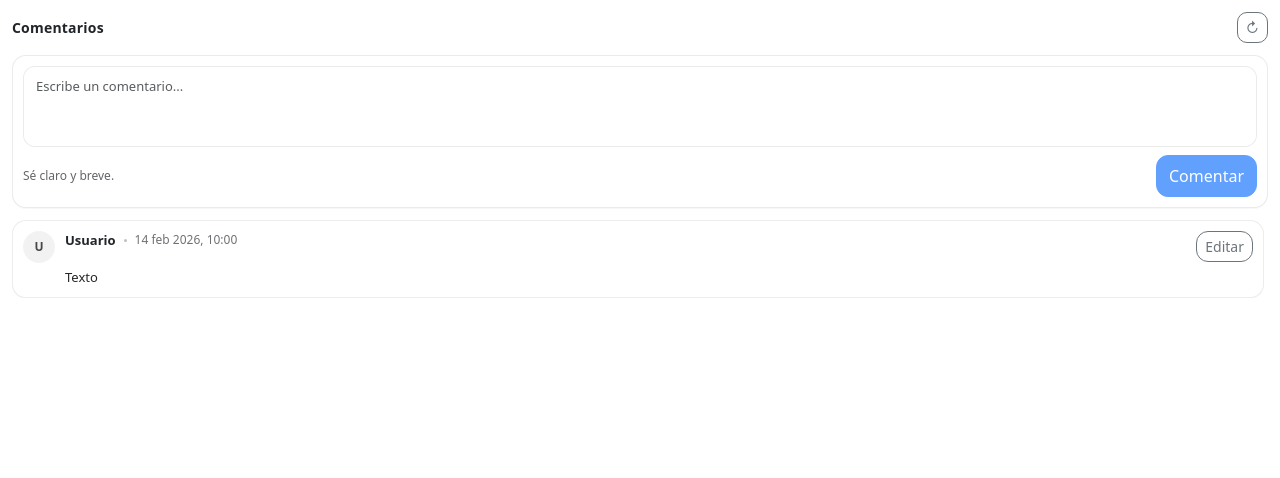
Test: DocumentCommentsPanel › shows error when update fails and stays in edit mode (branch)
Expected: the text "Texto" is shown, top-left (65, 268), bottom-right (98, 286)
Click the button "Editar" at (1225, 246), box top-left (1196, 230), bottom-right (1253, 262)
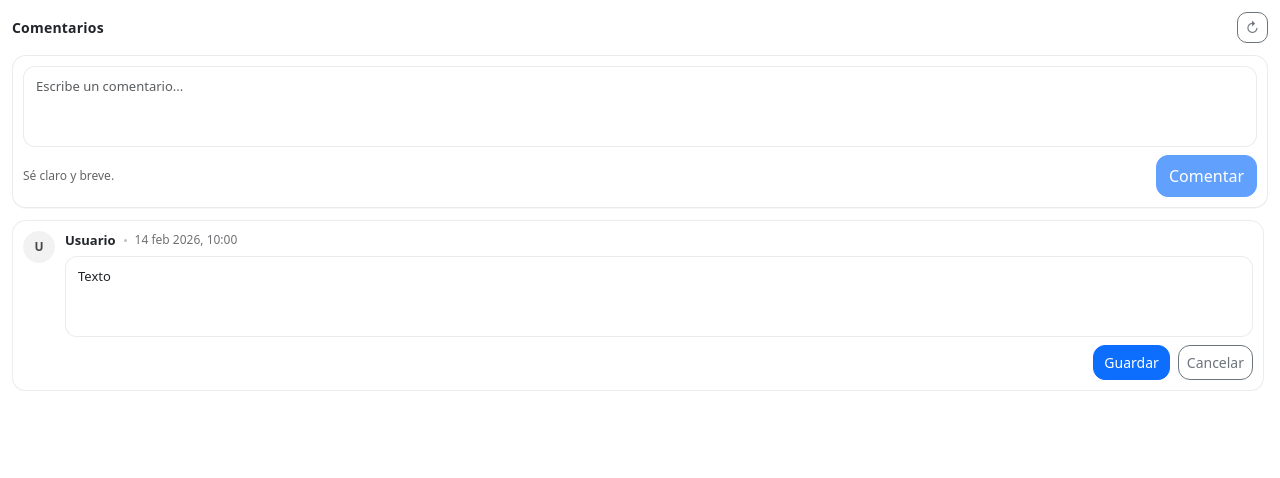
Type "Cambio" into the text box with placeholder "Escribe un comentario..." at (640, 106), box top-left (23, 66), bottom-right (1257, 146)
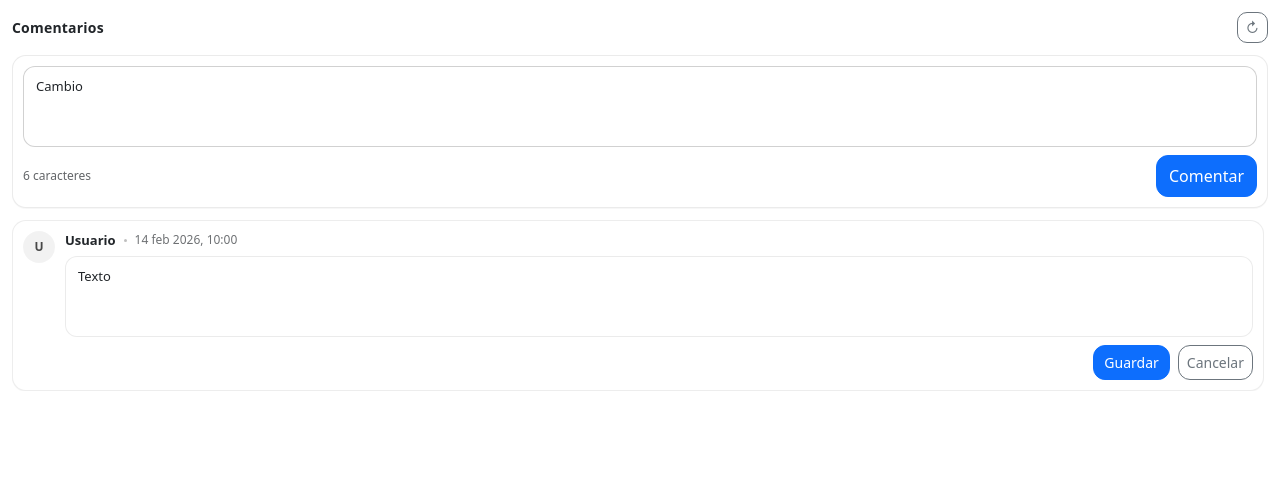
Click the button "Guardar" at (1132, 362), box top-left (1093, 344), bottom-right (1170, 380)
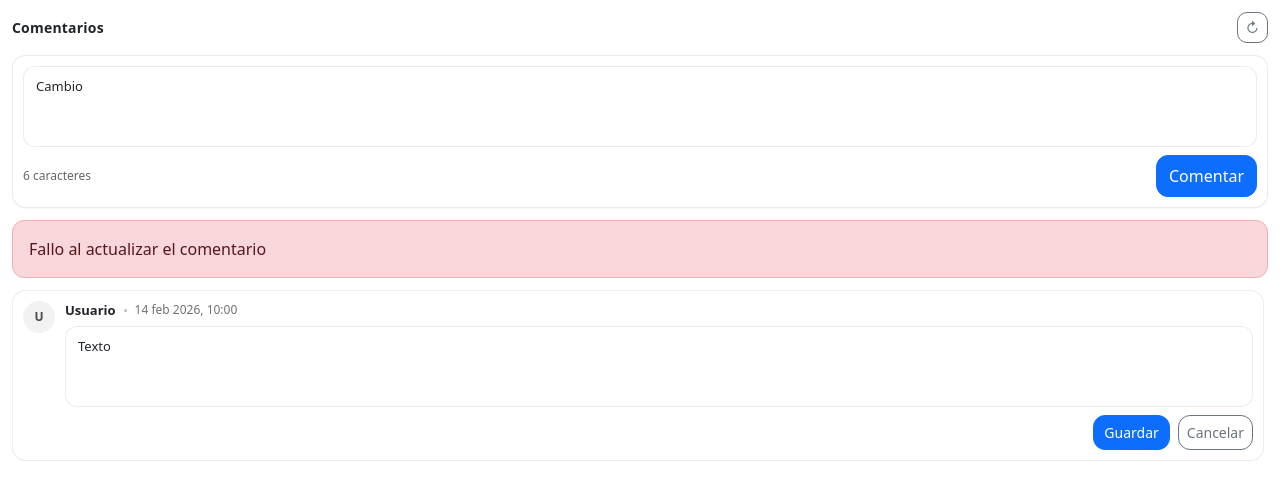
Expected: the button "Guardar" is shown, top-left (1093, 414), bottom-right (1170, 450)
Expected: the text "Fallo al actualizar el comentario" is shown, top-left (12, 220), bottom-right (1268, 278)
